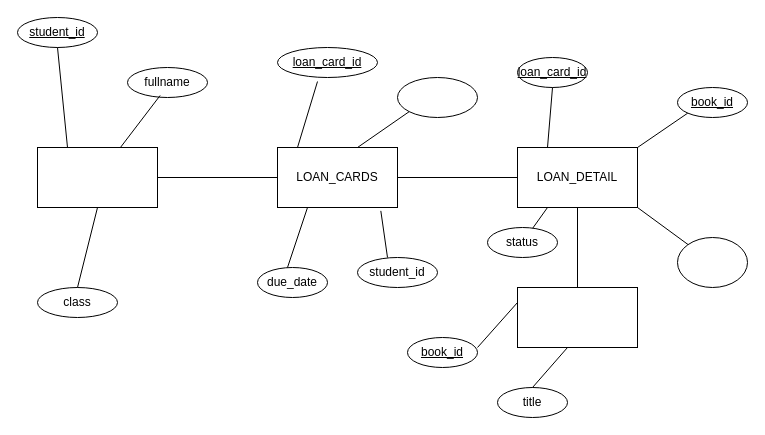
Image size: 765x435. Some labels were removed from this diagram. Each missing label, with the centre of its shape:
"BOOKS" belongs at (577,317).
"borrow_date" belongs at (437,97).
"return_date" belongs at (712,262).
"STUDENTS" belongs at (97,177).
